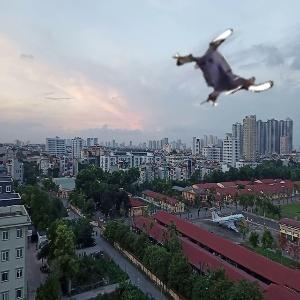drone: (177, 26, 270, 119)
